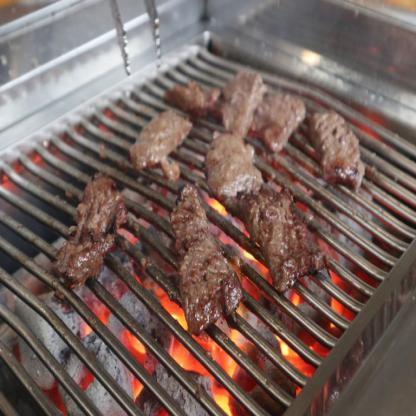Carne: (241, 170, 322, 297), (168, 184, 238, 329), (43, 168, 132, 281), (115, 105, 197, 168), (204, 122, 261, 204), (315, 102, 364, 187), (211, 64, 266, 132), (254, 91, 304, 151)
